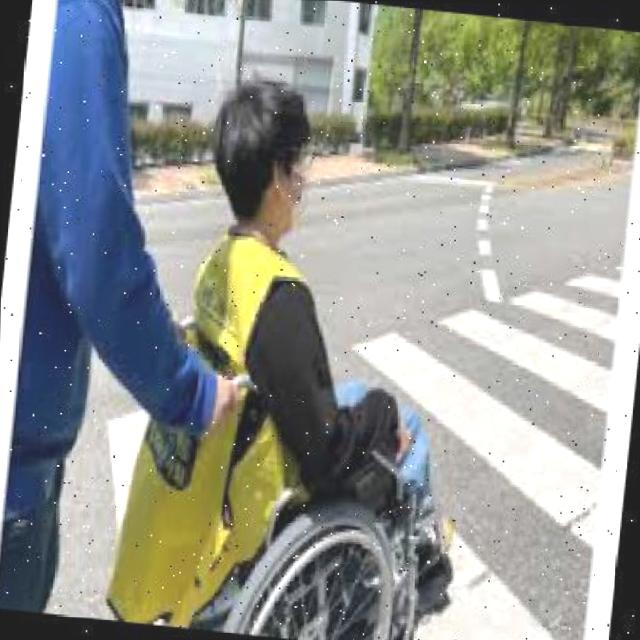Person: (122, 66, 496, 640)
